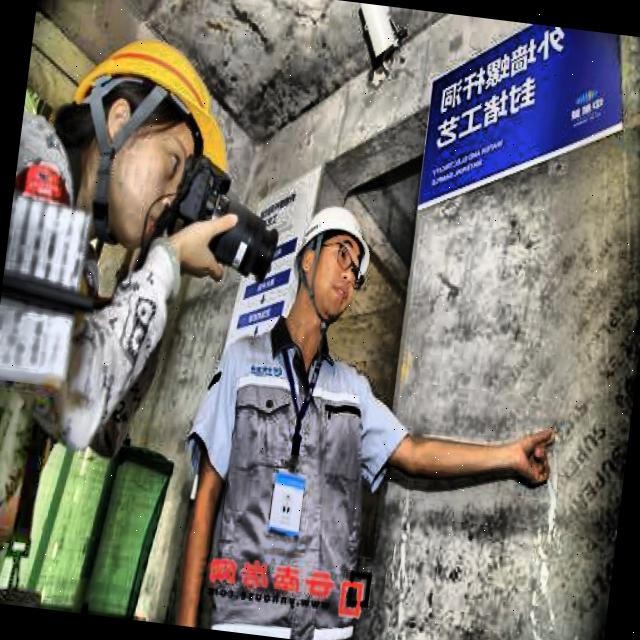helmet: (53, 8, 255, 266), (276, 188, 382, 335)
